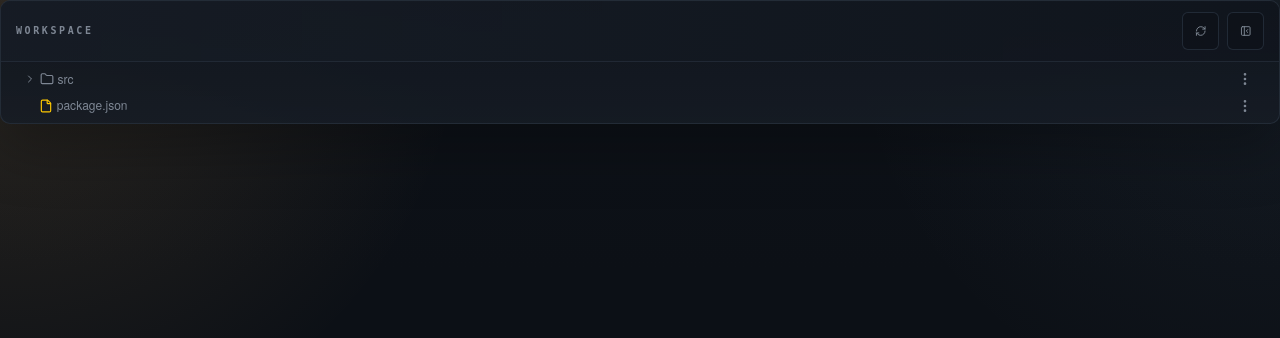
Scenario: FileTreePanel › context menu add to chat › opens the shared row menu from a compact actions button without selecting the row
This screenshot has width=1280, height=338.
Click the button named "Open actions for package.json". click: (1245, 106)
box: [1234,94,1256,117]
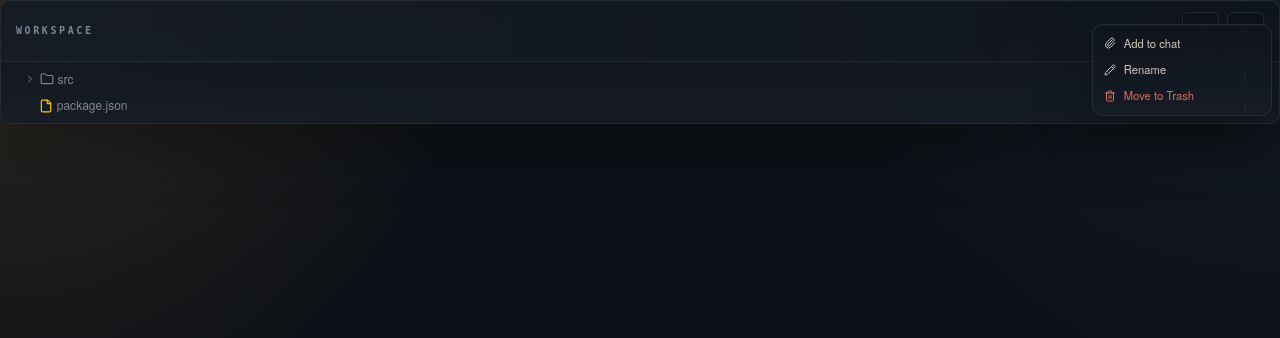
Check: the button "Rename" is shown, box [1093,56,1271,83]
